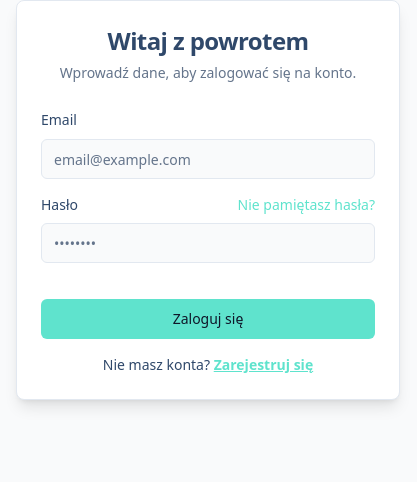
LoginForm Integration › powinien wyświetlić błędy walidacji przy pustym formularzu
Click the button "Zaloguj się": [208, 319] box [41,299,375,339]
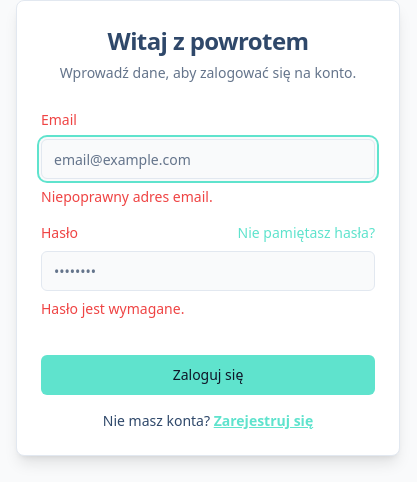
Result: the text "Niepoprawny adres email." is shown at [41,187,213,206]
